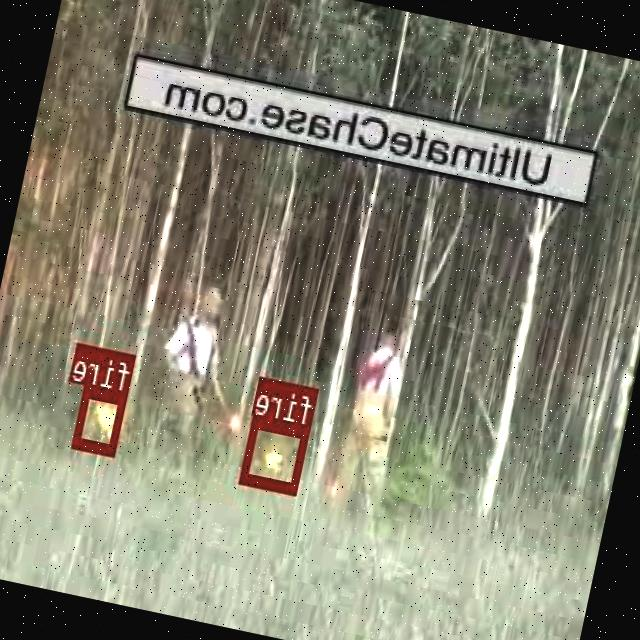fire: (240, 415, 310, 492), (74, 385, 128, 454)
